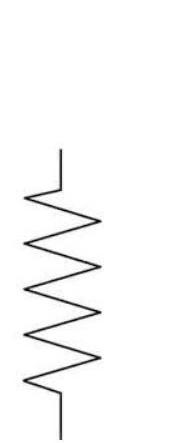resistor: (14, 152, 125, 419)
